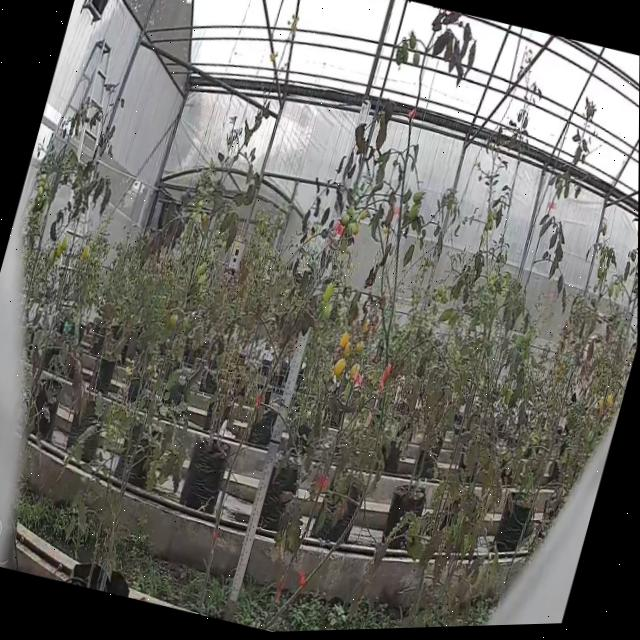fine: (331, 359, 348, 382), (339, 332, 352, 350)
unripe: (321, 281, 340, 308), (407, 204, 420, 222), (340, 213, 352, 231)
